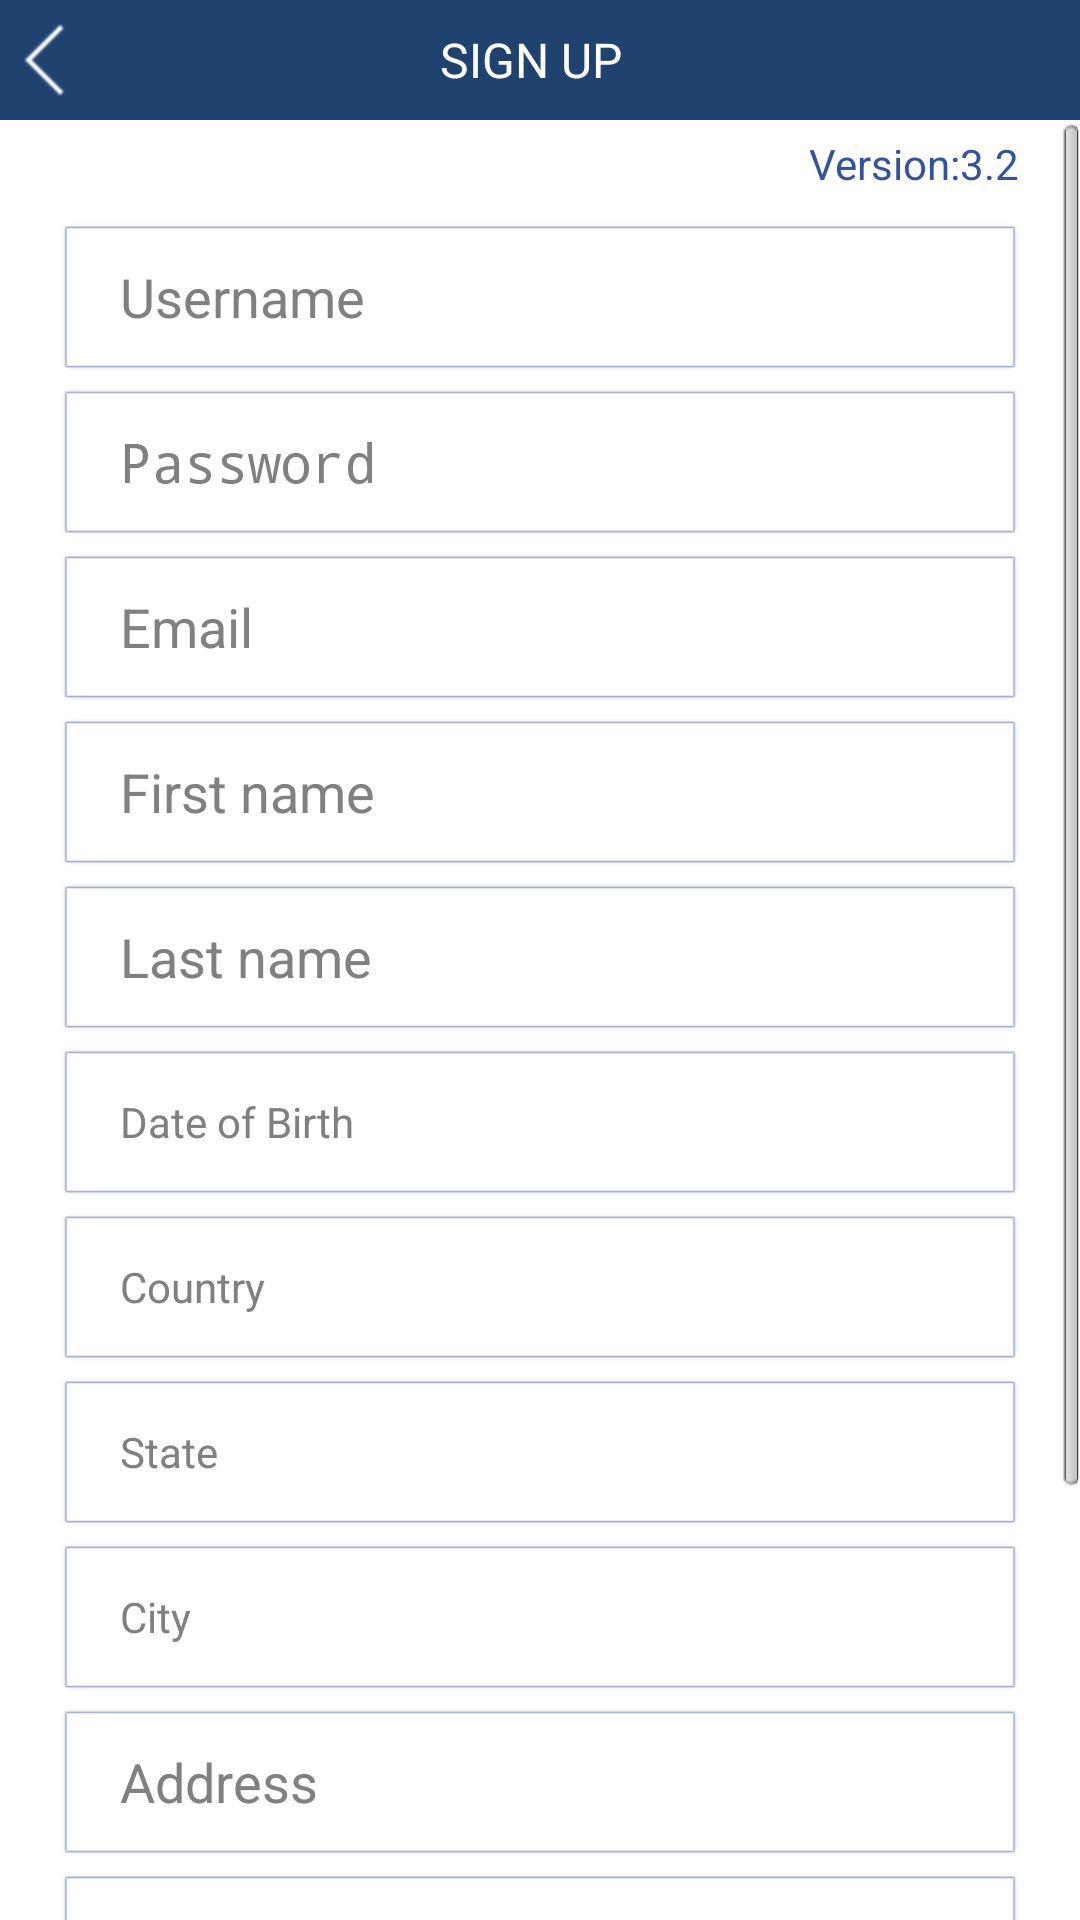

Named icons in this screenshot (1080w x 1920h) and their centers, (x=x, y=y):
back: (x=44, y=60)
